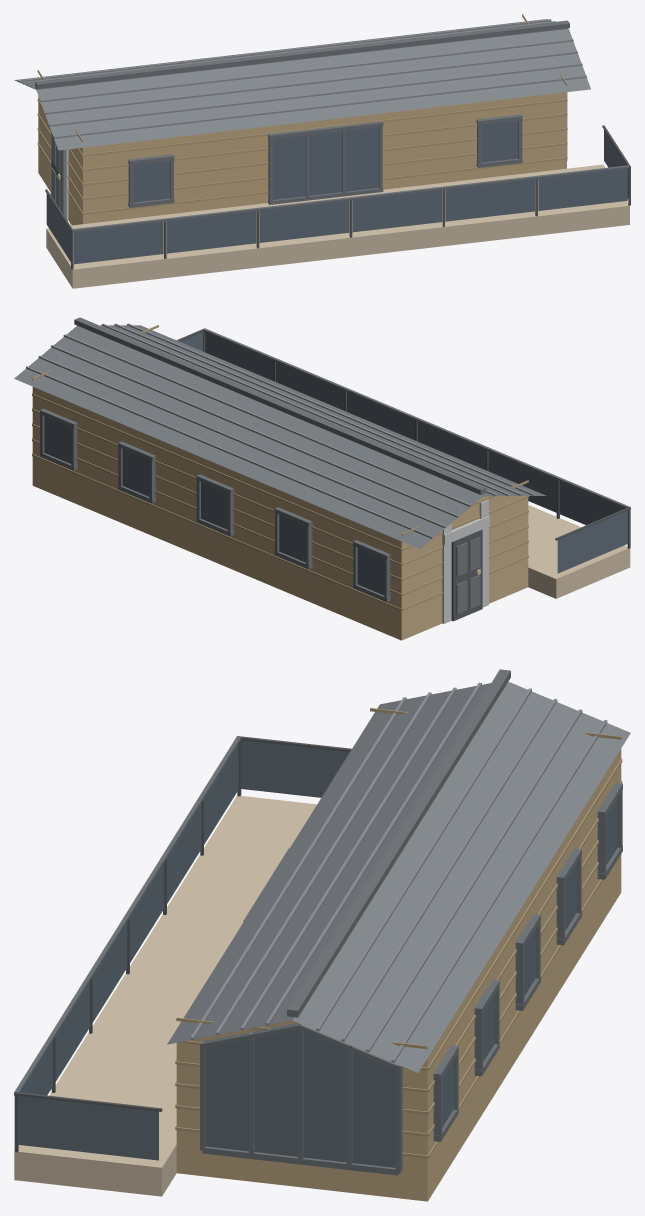
3 views of the same model, one above another, from view 1: azimuth 30°, elevation 25°; view 2: azimuth 150°, elevation 25°; view 3: azimuth 270°, elevation 25° (orthographic). The views are drawn at different scales.
Parts seen in each view (by area): view 1: slate, door_wood, larch, slate_dk, slate_lt, door_wood_p, window_glass_003, window_glass_004, window_glass_006, window_glass_005, window_glass_001, window_glass_002 (+10 smaller); view 2: slate, door_wood, slate_dk, slate_lt, door_wood_p, larch, window_glass_007, stone_band, window_glass_002, window_glass_001, door_dark_p, window_glass_005 (+10 smaller); view 3: slate, larch, door_wood, slate_dk, window_glass_014, slate_lt, window_glass_008, door_wood_p, window_glass_007, pipe, window_glass_004, window_glass_002 (+4 smaller).
Part boxes in pixels (x1,y1,x2,y2): slate: [14, 19, 590, 150]; door_wood: [38, 92, 566, 225]; larch: [46, 164, 629, 288]; slate_dk: [35, 20, 629, 231]; slate_lt: [18, 19, 586, 138]; door_wood_p: [37, 14, 567, 214]; window_glass_003: [259, 200, 349, 242]; window_glass_004: [352, 190, 442, 232]; window_glass_006: [538, 168, 627, 210]; window_glass_005: [445, 179, 534, 221]; window_glass_001: [74, 222, 163, 264]; window_glass_002: [167, 211, 256, 253]; slate: [14, 325, 546, 548]; door_wood: [32, 387, 528, 640]; slate_dk: [40, 317, 629, 602]; slate_lt: [26, 323, 534, 538]; door_wood_p: [32, 325, 528, 610]; larch: [528, 505, 630, 598]; window_glass_007: [557, 510, 628, 573]; stone_band: [442, 499, 489, 623]; window_glass_002: [488, 451, 556, 512]; window_glass_001: [559, 481, 624, 524]; door_dark_p: [456, 537, 480, 614]; window_glass_005: [276, 362, 344, 410]; slate: [167, 681, 630, 1072]; larch: [14, 795, 316, 1196]; door_wood: [176, 749, 621, 1201]; slate_dk: [14, 669, 622, 1175]; window_glass_014: [205, 1030, 395, 1167]; slate_lt: [190, 682, 607, 1062]; window_glass_008: [18, 1096, 158, 1160]; door_wood_p: [175, 708, 622, 1158]; window_glass_007: [240, 740, 349, 797]; pipe: [14, 736, 351, 1152]; window_glass_004: [92, 922, 127, 1022]; window_glass_002: [167, 803, 201, 903].
Bounding box in the file's own units: 14.64 × 3.34 × 9.7.
